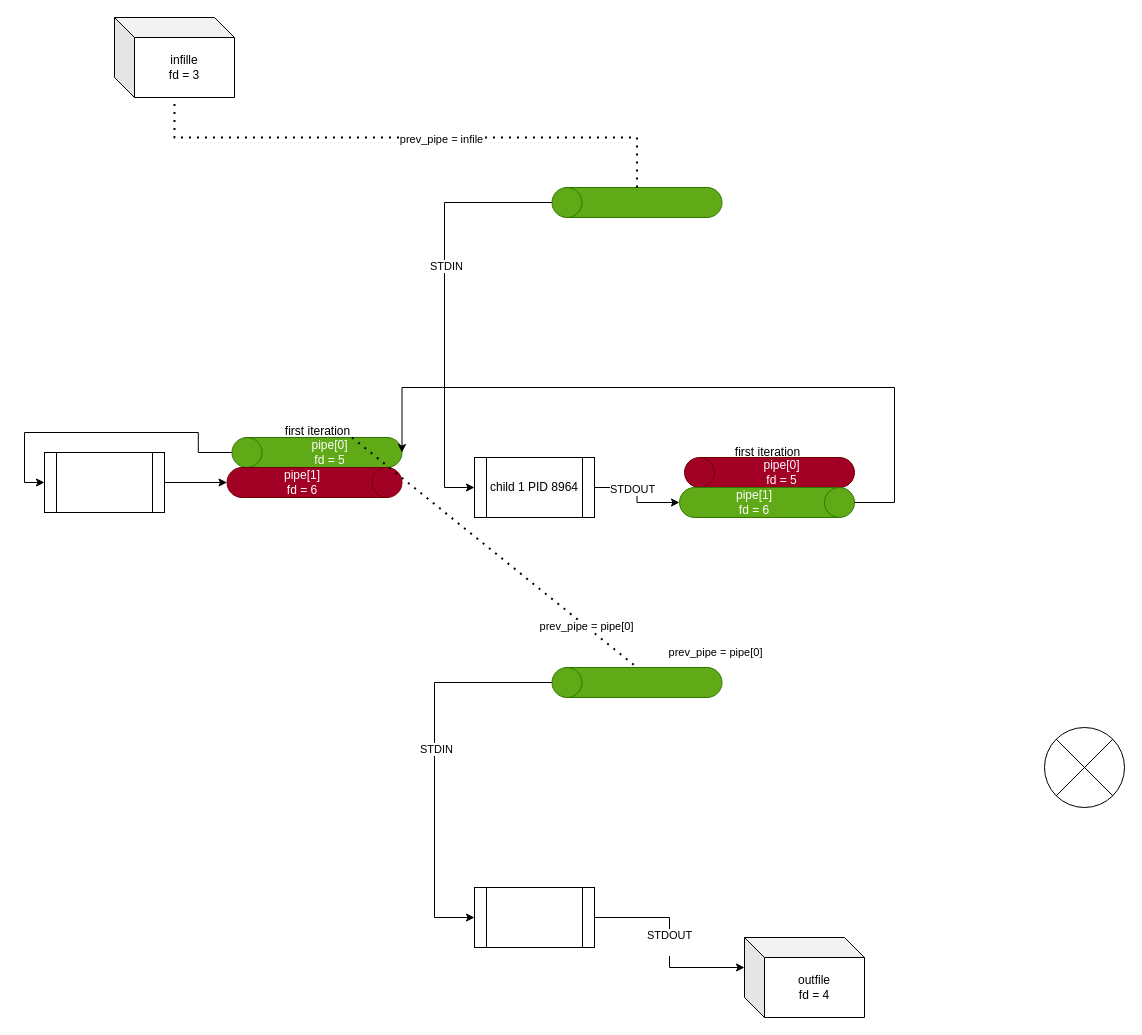
Some shapes in this 1142 by 1035 pixel diagram are drawn without their labels. Here are the shapes that lost their labels. From the top down, the centre of each, then its label:
At (636,202): "prev_pipe fd = 3".
At (104,482): "parent PID 8963".
At (636,682): "prev_pipe fd = 5".
At (534,917): "final child PID 8966".
